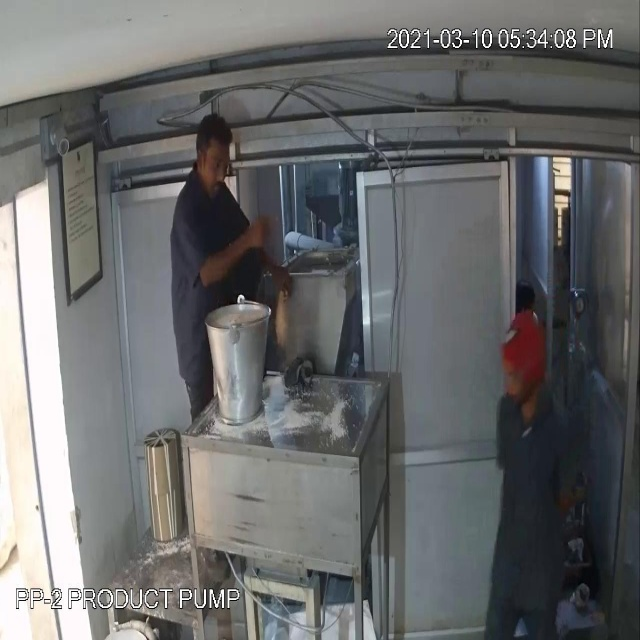Sin_guantes: (198, 226, 273, 297)
